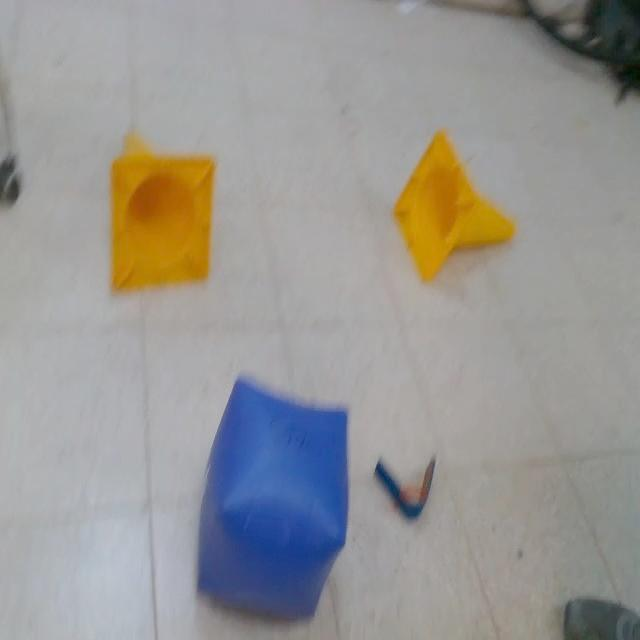cone: (391, 127, 516, 282), (108, 125, 217, 294)
cube: (195, 375, 351, 615)
